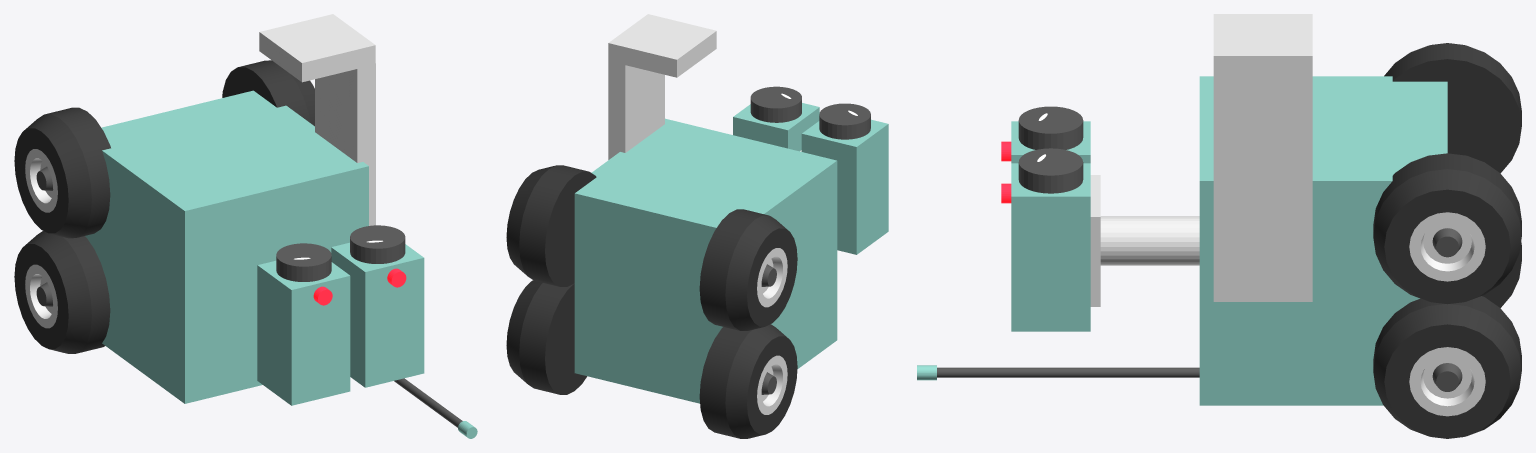
3 views of the same model, side by side, from view 1: azimuth 30°, elevation 25°; view 2: azimuth 150°, elevation 25°; view 3: azimuth 270°, elevation 25° (orthographic). The views are drawn at different scales.
Visible parts, largest first — view 1: Cube, Cube.004, wheel_frontLeft.001, wheel_frontLeft.002, Cube.001, Cube.002, Cube.003, wheel_frontLeft.003, Cylinder.004, Cylinder.001, Cylinder.006; view 2: Cube, wheel_frontLeft.001, wheel_frontLeft.002, wheel_frontLeft.003, Cube.004, wheel_frontLeft.004, Cube.003, Cube.002, Cube.001, Cylinder.004, Cylinder.001; view 3: Cube, Cube.002, wheel_frontLeft.003, wheel_frontLeft.004, Cube.001, wheel_frontLeft.001, Cube.003, Cylinder.002, Cylinder.006, Cylinder.001, Cylinder.004, Cube.005 (+2 smaller).
Boxes of the visible parts, left/top/right/bottom form: Cube: left=85, top=90, right=368, bottom=403; Cube.004: left=257, top=260, right=350, bottom=405; wheel_frontLeft.001: left=14, top=107, right=110, bottom=238; wheel_frontLeft.002: left=14, top=231, right=110, bottom=353; Cube.001: left=331, top=242, right=424, bottom=387; Cube.002: left=315, top=63, right=375, bottom=225; Cube.003: left=259, top=14, right=375, bottom=82; wheel_frontLeft.003: left=222, top=60, right=314, bottom=126; Cylinder.004: left=276, top=243, right=331, bottom=281; Cylinder.001: left=350, top=225, right=405, bottom=263; Cylinder.006: left=394, top=378, right=462, bottom=427; Cube: left=574, top=118, right=837, bottom=403; wheel_frontLeft.001: left=699, top=209, right=797, bottom=330; wheel_frontLeft.002: left=699, top=324, right=797, bottom=438; wheel_frontLeft.003: left=506, top=165, right=596, bottom=286; Cube.004: left=801, top=119, right=888, bottom=254; wheel_frontLeft.004: left=506, top=280, right=586, bottom=394; Cube.003: left=608, top=14, right=716, bottom=77; Cube.002: left=608, top=60, right=664, bottom=159; Cube.001: left=733, top=103, right=819, bottom=151; Cylinder.004: left=819, top=103, right=870, bottom=139; Cylinder.001: left=750, top=86, right=801, bottom=122; Cube: left=1199, top=76, right=1447, bottom=405; Cube.002: left=1213, top=77, right=1312, bottom=301; wheel_frontLeft.003: left=1373, top=153, right=1521, bottom=304; wheel_frontLeft.004: left=1373, top=296, right=1521, bottom=438; Cube.001: left=1011, top=163, right=1090, bottom=331; wheel_frontLeft.001: left=1384, top=43, right=1521, bottom=173; Cube.003: left=1213, top=14, right=1312, bottom=77; Cylinder.002: left=1100, top=216, right=1199, bottom=265; Cylinder.006: left=937, top=367, right=1199, bottom=377; Cylinder.001: left=1018, top=148, right=1083, bottom=193; Cylinder.004: left=1018, top=106, right=1083, bottom=149; Cube.005: left=1090, top=175, right=1100, bottom=306.
Size of the model in its own units: 0.7 by 0.8444 by 1.22.
